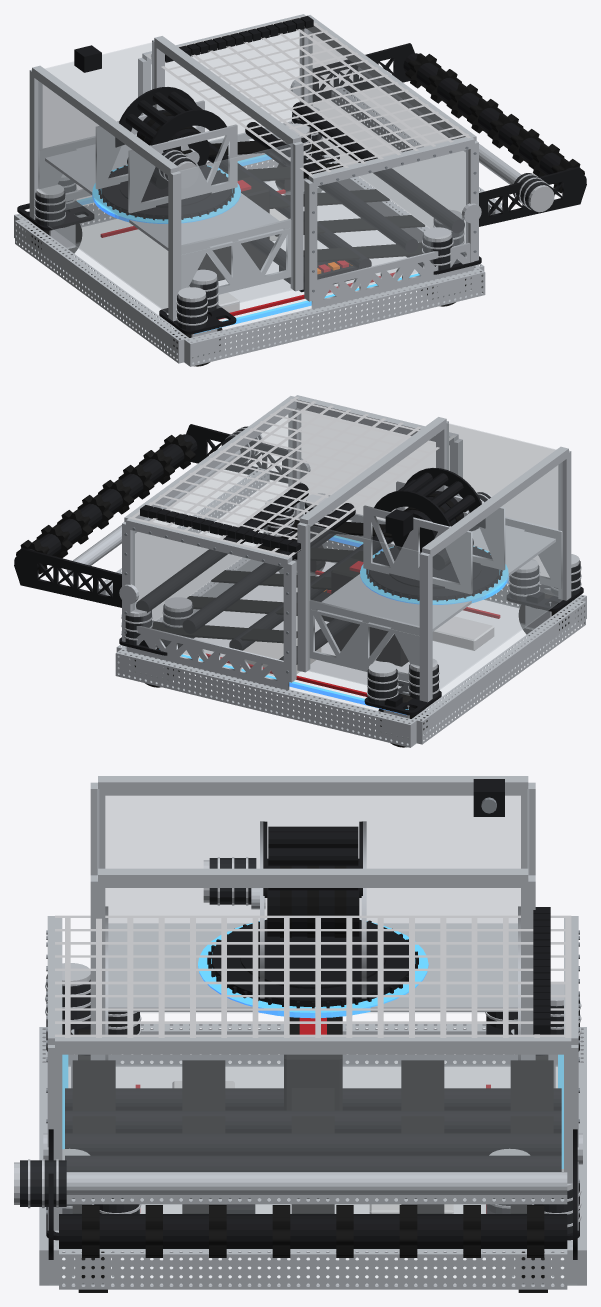
3 renders of one model, top to bottom at view 1: azimuth 30°, elevation 25°; view 2: azimuth 150°, elevation 25°; view 3: azimuth 270°, elevation 25°, orthographic. The views are drawn at different scales.
Visible parts, largest first — view 1: body.polycarb, body.aluminum, body.aluminum_tube, body.black, body.net_white, intake.black, turret.black, turret.aluminum, body.belt, intake.rubber, body.kraken, body.kraken_cap (+9 smaller); view 2: body.polycarb, body.aluminum, body.aluminum_tube, body.black, body.net_white, intake.black, turret.black, turret.aluminum, body.belt, intake.rubber, body.kraken, body.kraken_cap (+8 smaller); view 3: body.polycarb, body.aluminum, body.black, body.aluminum_tube, body.net_white, turret.black, body.belt, intake.black, intake.aluminum, intake.rubber, intake.aluminum_tube, body.led_blue (+9 smaller).
Part boxes in pixels (left/top/right/bottom): body.polycarb: left=22, top=30, right=477, bottom=363; body.aluminum: left=29, top=14, right=478, bottom=355; body.aluminum_tube: left=14, top=154, right=485, bottom=366; body.black: left=17, top=16, right=481, bottom=356; body.net_white: left=145, top=15, right=470, bottom=176; intake.black: left=312, top=43, right=586, bottom=226; turret.black: left=98, top=87, right=234, bottom=220; turret.aluminum: left=95, top=100, right=237, bottom=213; body.belt: left=209, top=139, right=453, bottom=262; intake.rubber: left=405, top=53, right=584, bottom=193; body.kraken: left=35, top=114, right=463, bottom=330; body.kraken_cap: left=34, top=106, right=464, bottom=325; body.polycarb: left=123, top=409, right=575, bottom=744; body.aluminum: left=122, top=395, right=571, bottom=736; body.aluminum_tube: left=115, top=540, right=586, bottom=747; body.black: left=119, top=483, right=583, bottom=737; body.net_white: left=129, top=397, right=455, bottom=557; intake.black: left=14, top=424, right=288, bottom=607; turret.black: left=366, top=468, right=502, bottom=601; turret.aluminum: left=363, top=481, right=505, bottom=594; body.belt: left=152, top=519, right=391, bottom=643; intake.rubber: left=16, top=434, right=195, bottom=574; body.kraken: left=125, top=502, right=580, bottom=704; body.kraken_cap: left=121, top=493, right=581, bottom=700; body.polycarb: left=50, top=786, right=576, bottom=1284; body.aluminum: left=47, top=776, right=578, bottom=1277; body.black: left=46, top=779, right=579, bottom=1240; body.aluminum_tube: left=39, top=1024, right=586, bottom=1289; body.net_white: left=55, top=915, right=571, bottom=1037; turret.black: left=207, top=821, right=418, bottom=1008; body.belt: left=72, top=1060, right=553, bottom=1213; intake.black: left=48, top=1129, right=577, bottom=1259; intake.aluminum: left=43, top=1133, right=582, bottom=1195; intake.rubber: left=82, top=1205, right=544, bottom=1257; intake.aluminum_tube: left=66, top=1195, right=567, bottom=1204; body.led_blue: left=62, top=921, right=563, bottom=1168.
Bounding box in the file's own units: 0.9627 × 0.475 × 0.7442.
17 materials, 2 textured.
